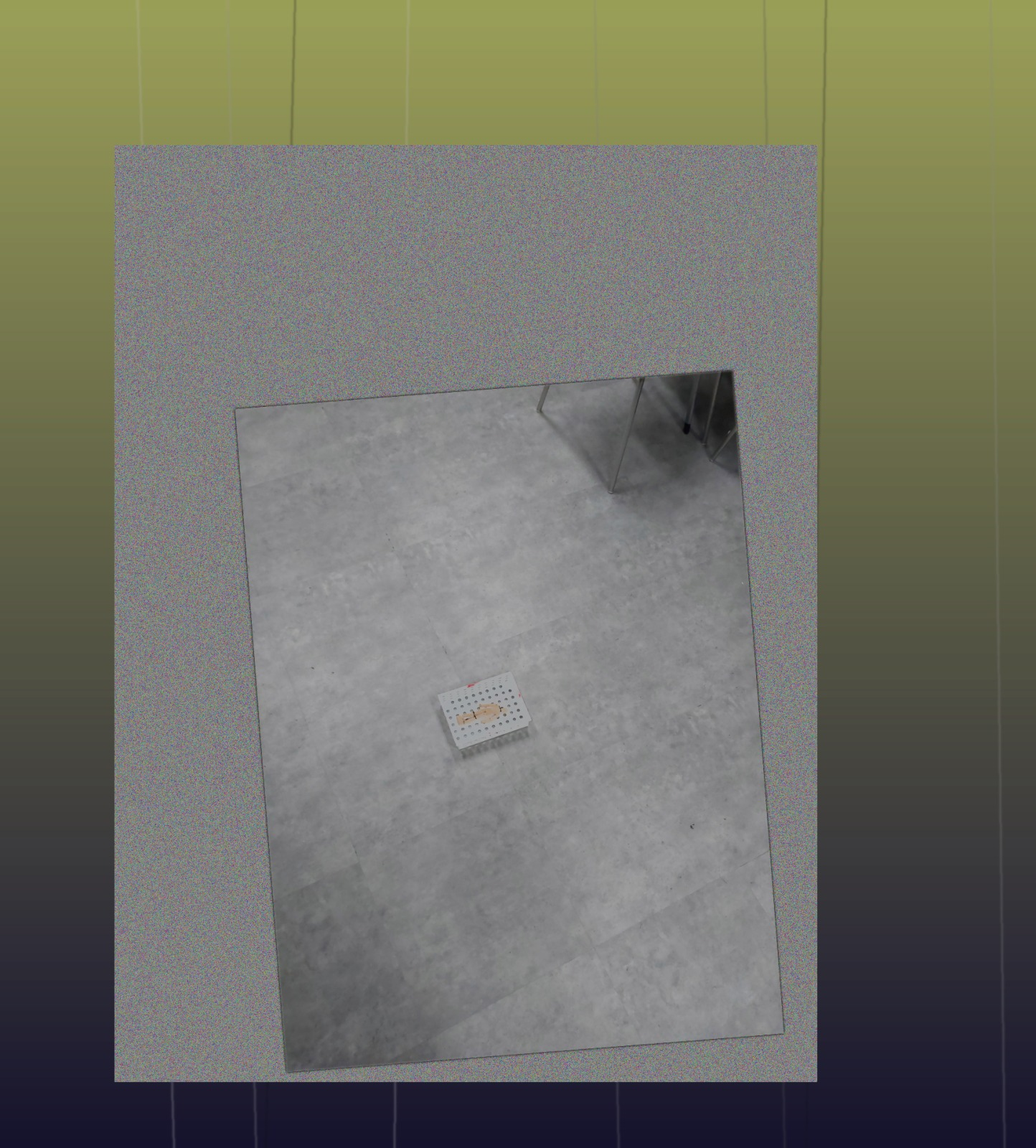basket: (435, 671, 533, 753)
mannequin: (456, 702, 509, 728)
